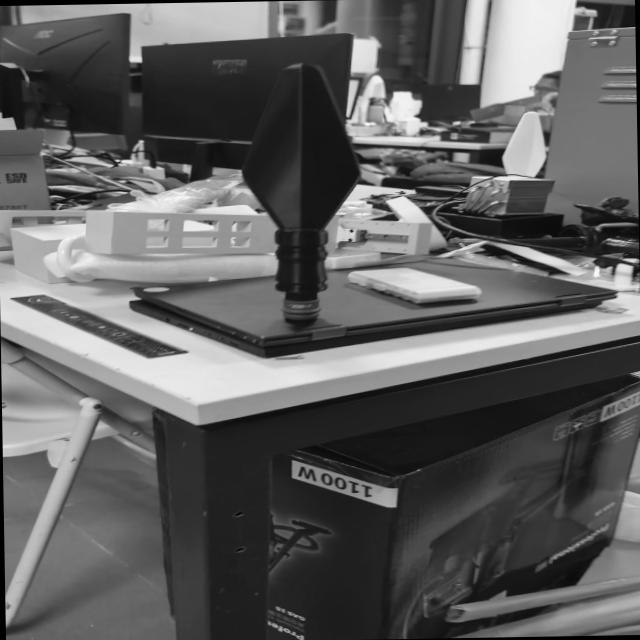base: (272, 294, 326, 326)
